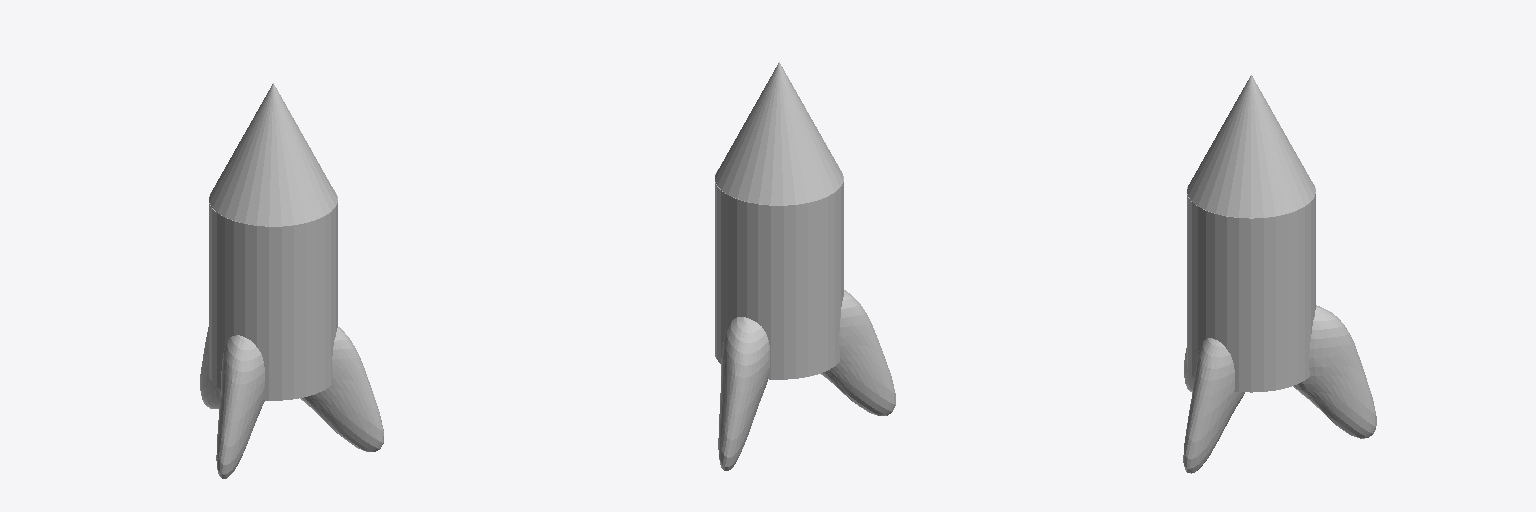
The model's file is ROCKET.obj.
The picture shows the model from 3 angles: view 1: azimuth 30°, elevation 25°; view 2: azimuth 150°, elevation 25°; view 3: azimuth 270°, elevation 25°; orthographic projection.
Parts seen in each view (by area): view 1: Cylinder, Cone, Sphere, Sphere.002, Sphere.001; view 2: Cylinder, Cone, Sphere.001, Sphere; view 3: Cylinder, Cone, Sphere.001, Sphere.002.
Part boxes in pixels (x1,y1,x2,y2): Cylinder: (209, 190, 337, 400); Cone: (209, 83, 337, 226); Sphere: (216, 335, 264, 478); Sphere.002: (300, 327, 383, 451); Sphere.001: (200, 327, 220, 408); Cylinder: (715, 170, 843, 379); Cone: (715, 62, 842, 205); Sphere.001: (718, 317, 769, 470); Sphere: (821, 290, 895, 415); Cylinder: (1187, 185, 1315, 392); Cone: (1187, 75, 1315, 217); Sphere.001: (1293, 305, 1376, 438); Sphere.002: (1183, 338, 1244, 473).
Bounding box in the file's own units: 2.93 × 6.23 × 2.98.